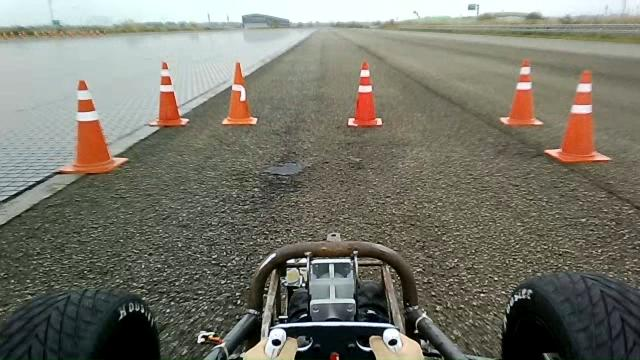red cone: (57, 79, 128, 174), (544, 69, 612, 164), (499, 58, 544, 126), (148, 61, 189, 127), (347, 60, 382, 128), (221, 61, 258, 125)
